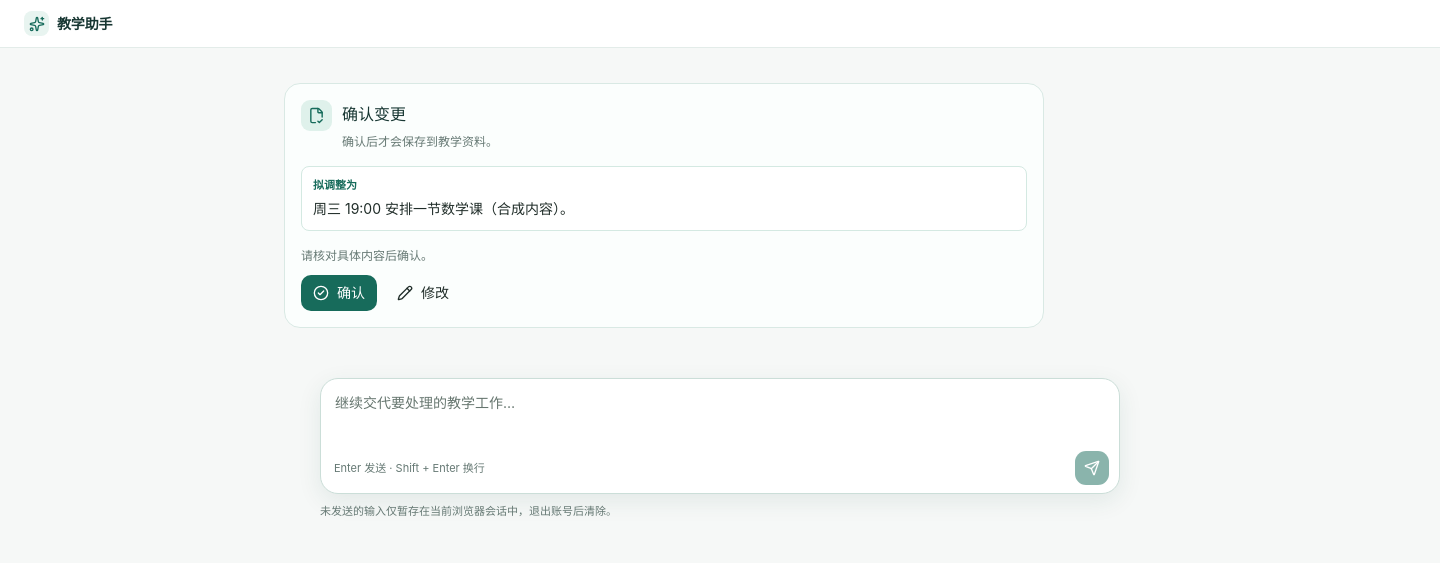
Test case: persistent assistant chat › leaves an unconfirmed proposal available when saving fails
The image size is (1440, 563).
Expected: the text "周三 19:00 安排一节数学课（合成内容）。" is shown, left=313, top=200, right=574, bottom=217
Click the button "确认". click: point(339, 294)
box: left=301, top=276, right=377, bottom=312
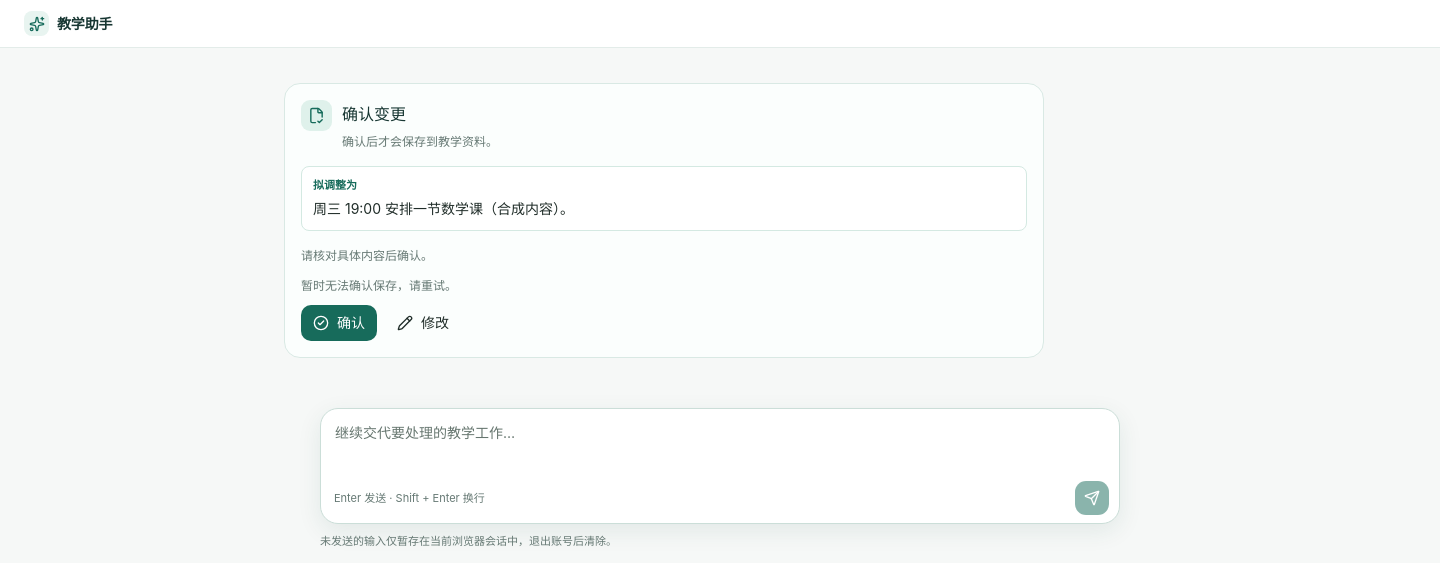
Expected: the button "确认" is enabled, left=301, top=306, right=377, bottom=342
Now the message reads "暂时无法确认保存，请重试。", box left=301, top=278, right=457, bottom=294
